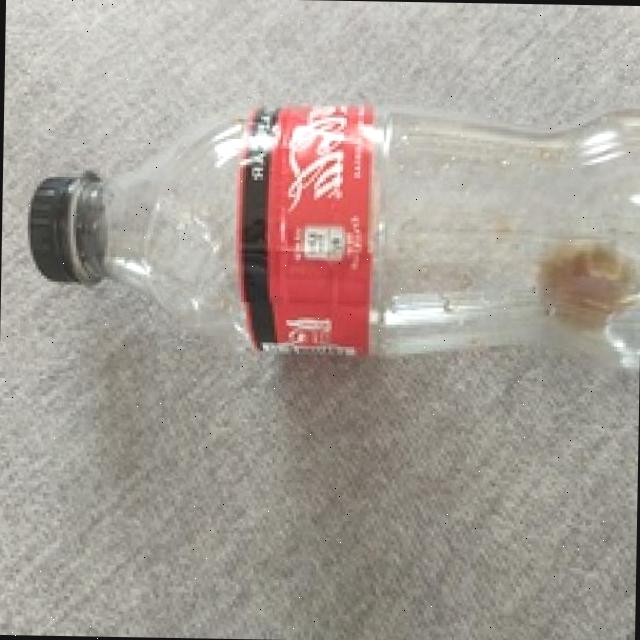bottle: (26, 93, 634, 342)
cap: (27, 166, 109, 294)
label: (239, 94, 379, 357)
